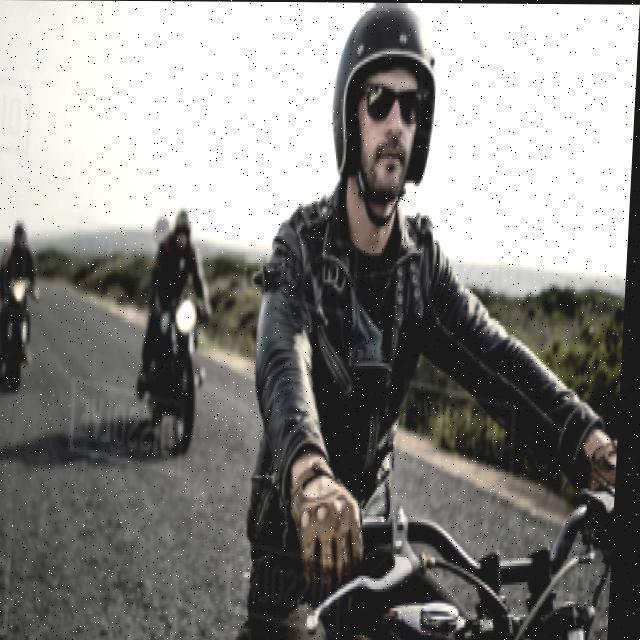Helmet: (314, 5, 451, 221)
